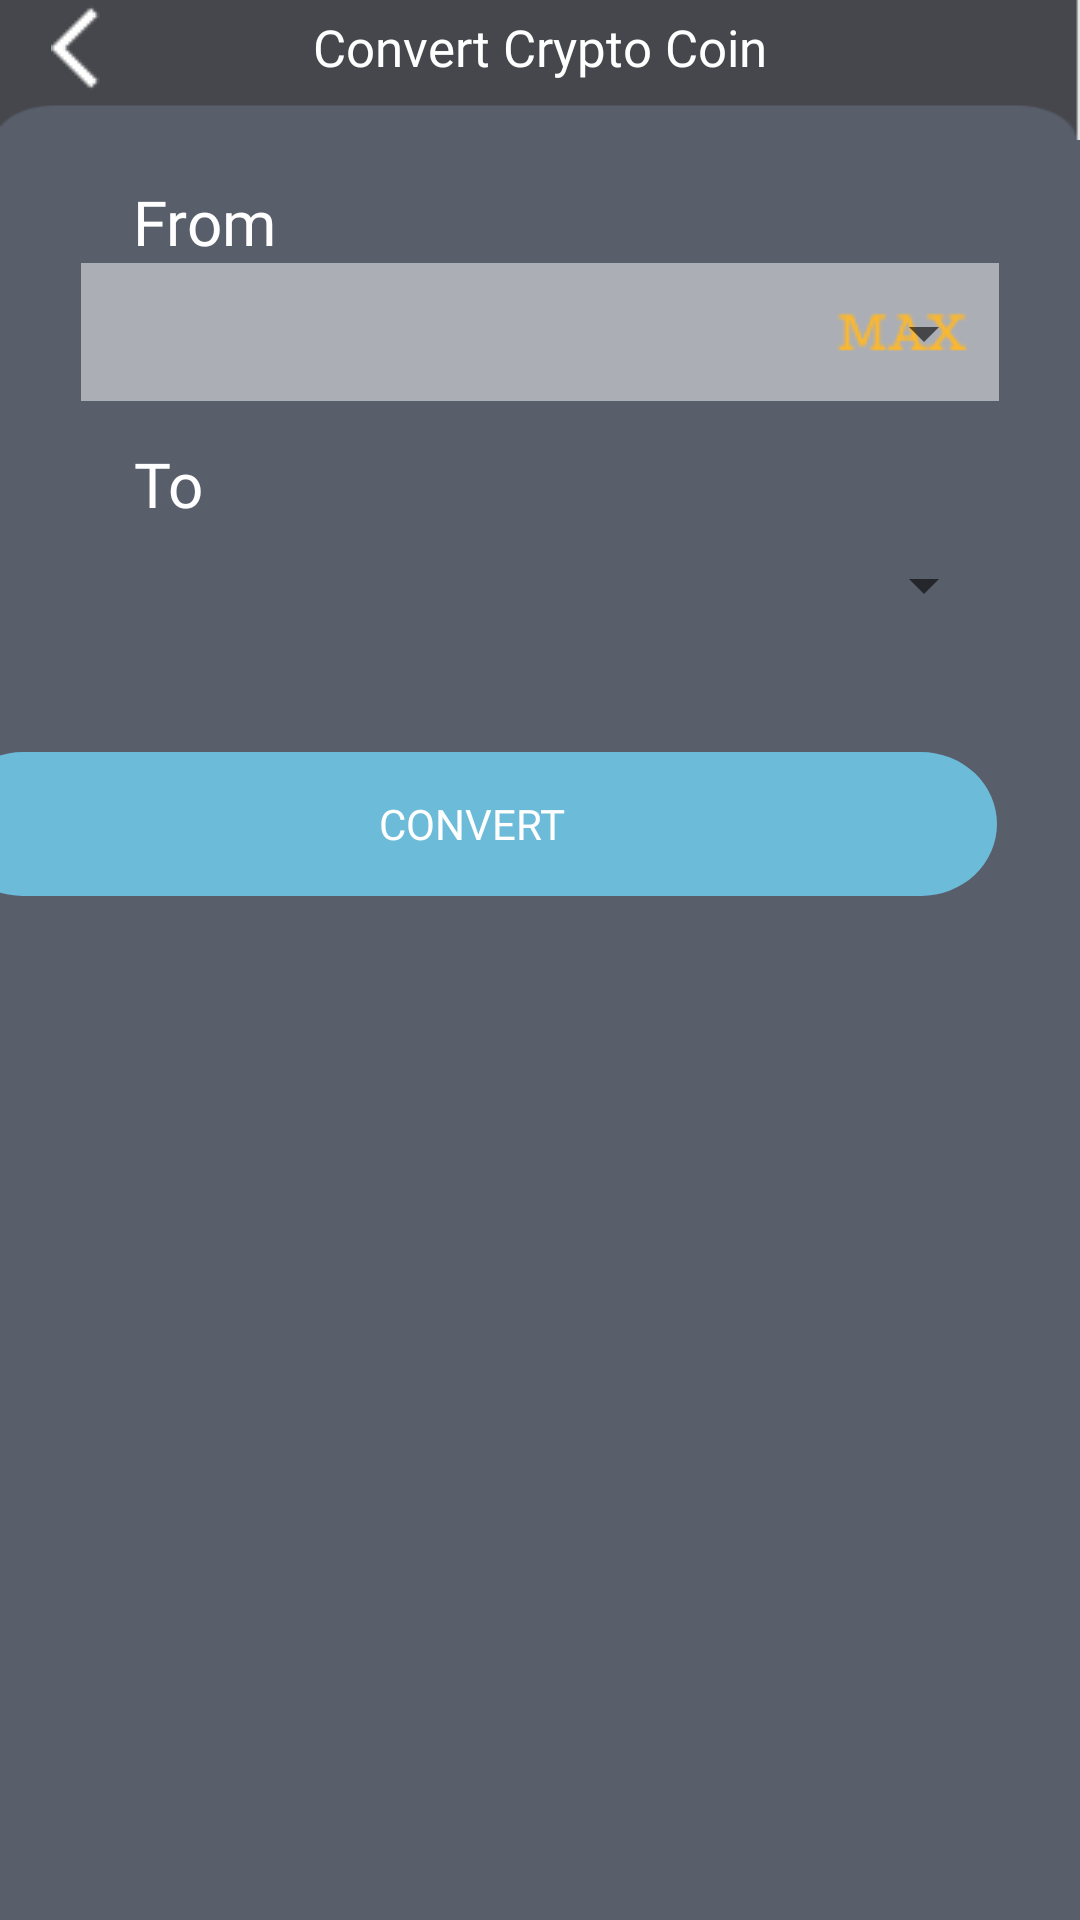

Screen size 1080*1920. Icon name, then its center in pixels as point (x, y):
back trade: point (74, 48)
